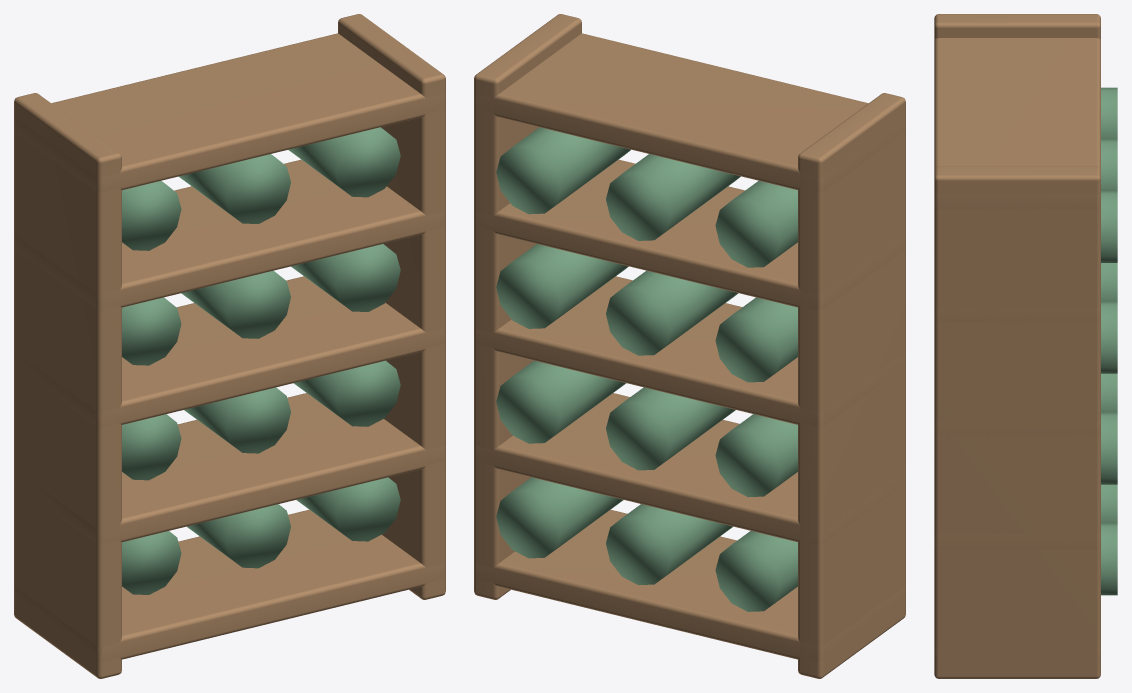
File: atelier-wine-display.glb
3 views of the same model, side by side, from view 1: azimuth 30°, elevation 25°; view 2: azimuth 150°, elevation 25°; view 3: azimuth 270°, elevation 25° (orthographic). The views are drawn at different scales.
Parts seen in each view (by area): view 1: legs.242, artGreen.023; view 2: legs.242, artGreen.023; view 3: legs.242, artGreen.023.
Part boxes in pixels (bbox=[...]): legs.242: bbox=[14, 14, 445, 678]; artGreen.023: bbox=[122, 127, 400, 594]; legs.242: bbox=[474, 14, 905, 678]; artGreen.023: bbox=[496, 127, 797, 611]; legs.242: bbox=[934, 14, 1100, 678]; artGreen.023: bbox=[1101, 87, 1117, 595].
Size of the model in its own units: 0.7 by 1 by 0.33.
